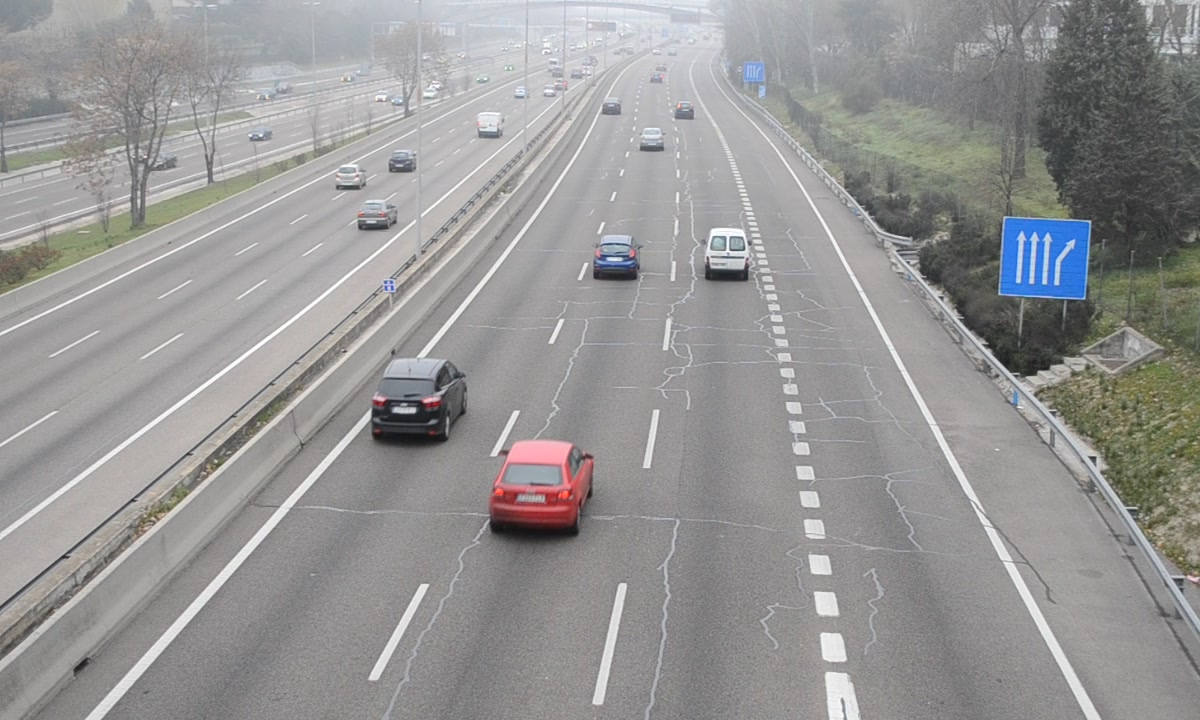car: (490, 439, 591, 530), (372, 360, 465, 442), (594, 234, 639, 279), (638, 126, 665, 152)
van: (706, 227, 750, 279)
